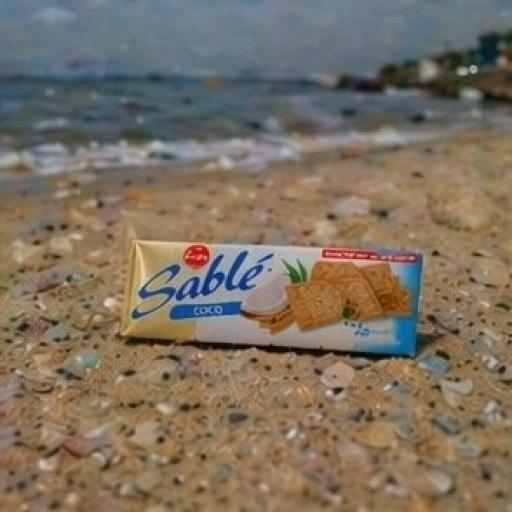sabl: (73, 179, 471, 408)
